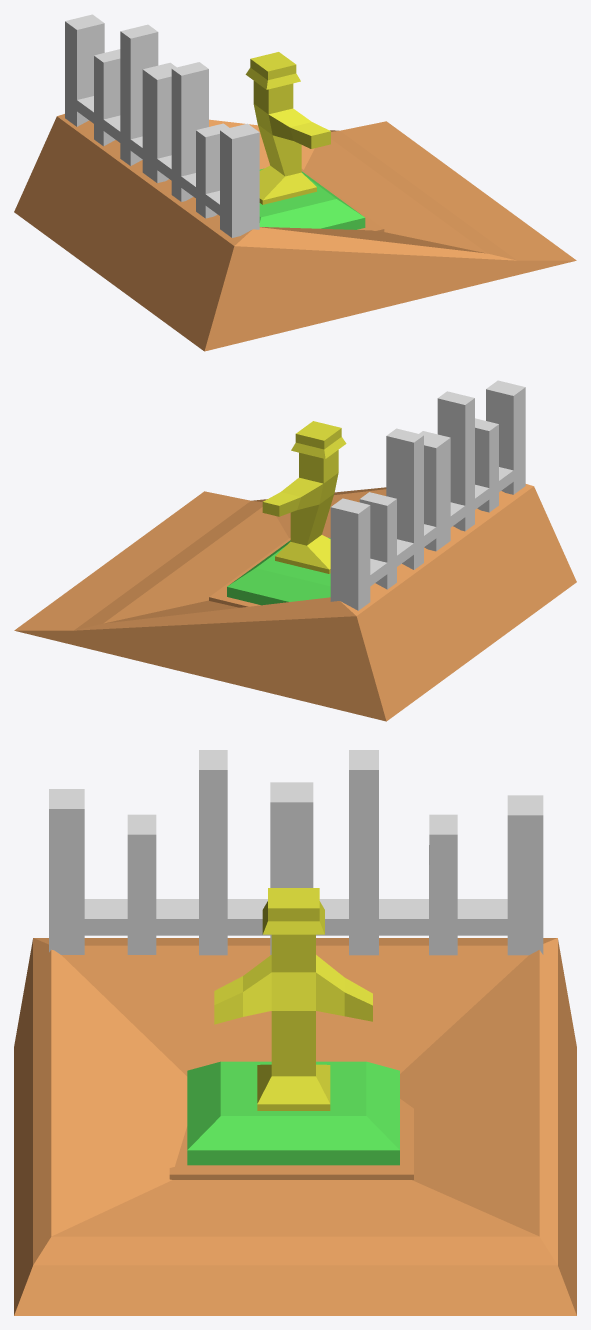
File: background.glb
3 renders of one model, top to bottom at view 1: azimuth 30°, elevation 25°; view 2: azimuth 150°, elevation 25°; view 3: azimuth 270°, elevation 25°, orthographic. The views are drawn at different scales.
Parts seen in each view (by area): view 1: Cube, Cube.003, Cube.004, Cube.001; view 2: Cube, Cube.003, Cube.004, Cube.001; view 3: Cube, Cube.003, Cube.001, Cube.004.
Part boxes in pixels (x1,y1,x2,y2): Cube: (14, 114, 576, 351); Cube.003: (65, 14, 259, 237); Cube.004: (245, 52, 330, 204); Cube.001: (259, 168, 365, 229); Cube: (14, 484, 576, 721); Cube.003: (330, 380, 525, 610); Cube.004: (262, 421, 346, 573); Cube.001: (227, 537, 330, 605); Cube: (14, 938, 576, 1315); Cube.003: (49, 750, 543, 955); Cube.001: (187, 1061, 399, 1165); Cube.004: (214, 888, 372, 1110).
Size of what is drawn, in the model's own units: 89.03 by 50.31 by 78.82.
